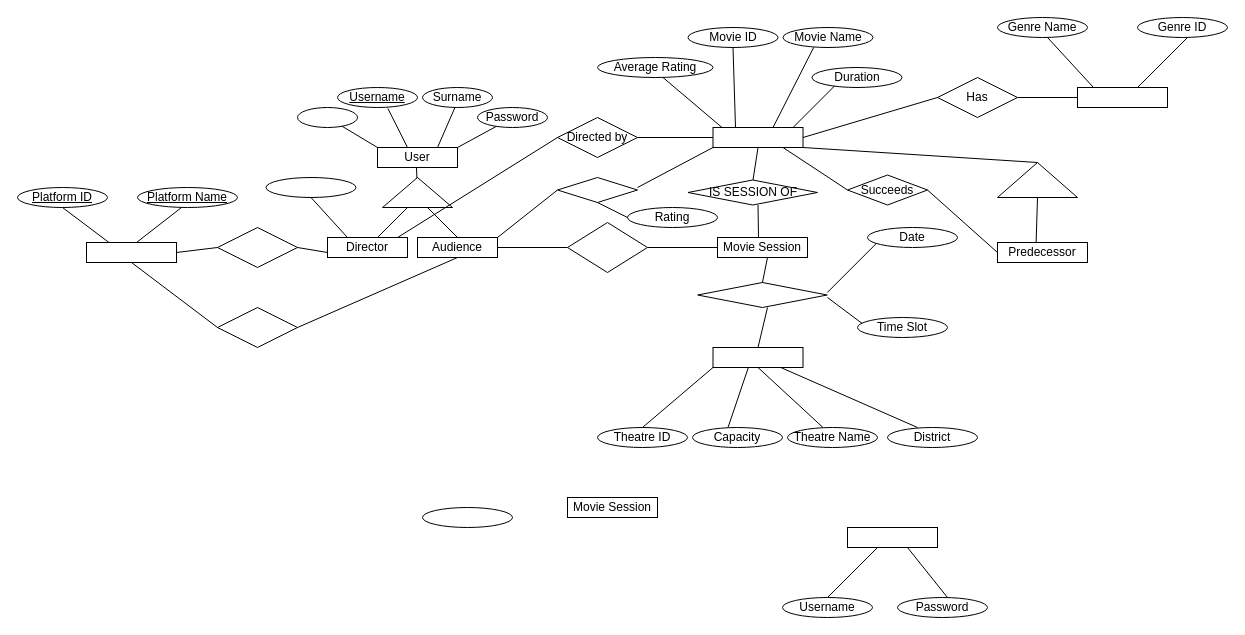
The diagram is 1245 pixels wide and 635 high, and some of its shapes have lost their labels. The box of each missing label's shape, as (x1, y1, x2, y2) in pixels:
Buys Ticket: (566, 222, 648, 272)
DB Manager: (846, 526, 938, 548)
Genre: (1076, 86, 1168, 108)
Genre List: (422, 506, 512, 528)
IS A: (996, 162, 1078, 198)
ISA: (382, 176, 452, 208)
Movie: (712, 126, 803, 148)
Name: (296, 106, 358, 128)
Nation: (265, 176, 356, 198)
PLAYS IN: (697, 282, 827, 308)
Rates: (556, 176, 638, 202)
Rating Platform: (86, 242, 176, 262)
Subscribes: (216, 306, 298, 348)
Theatre: (712, 346, 803, 368)
Uses: (216, 226, 298, 268)
